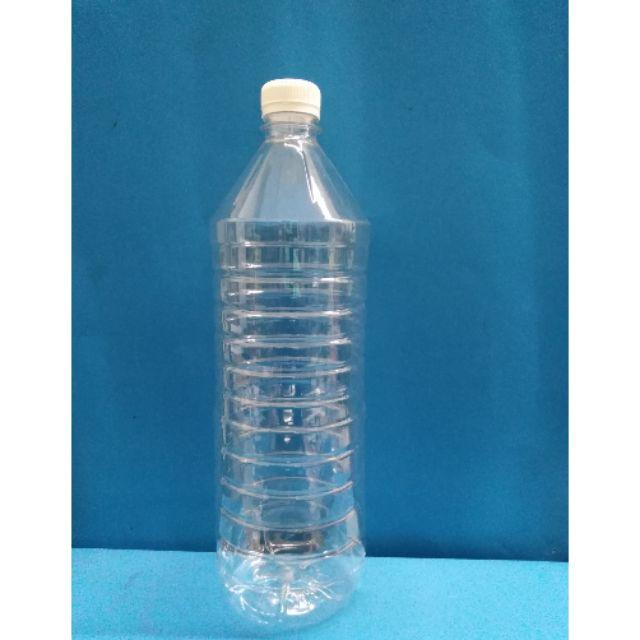bottle: (195, 63, 384, 633)
